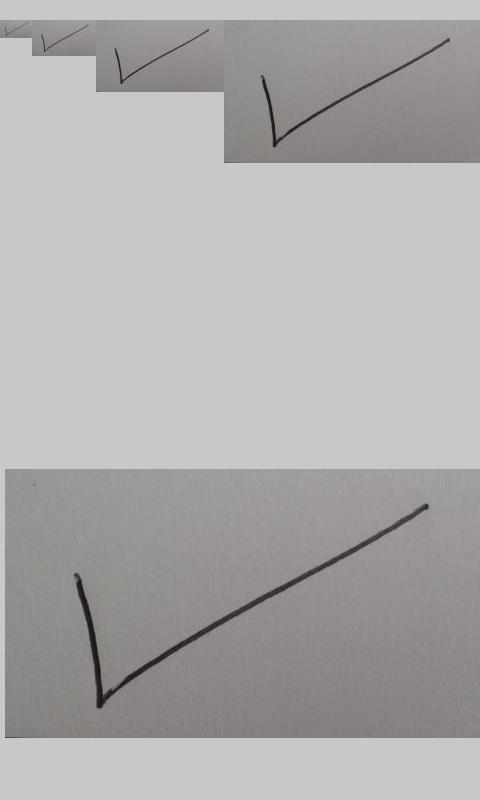check_box: (74, 503, 429, 709), (259, 38, 449, 147), (114, 29, 210, 84), (40, 24, 88, 52), (4, 22, 28, 36)
